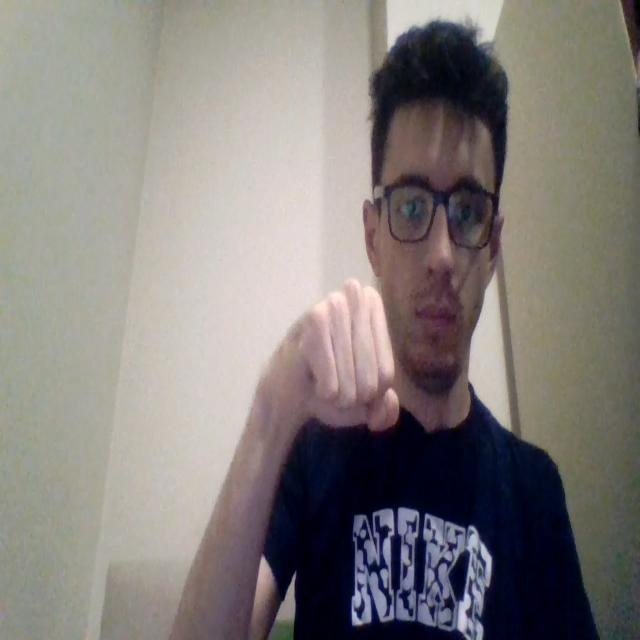yes: (297, 276, 399, 433)
